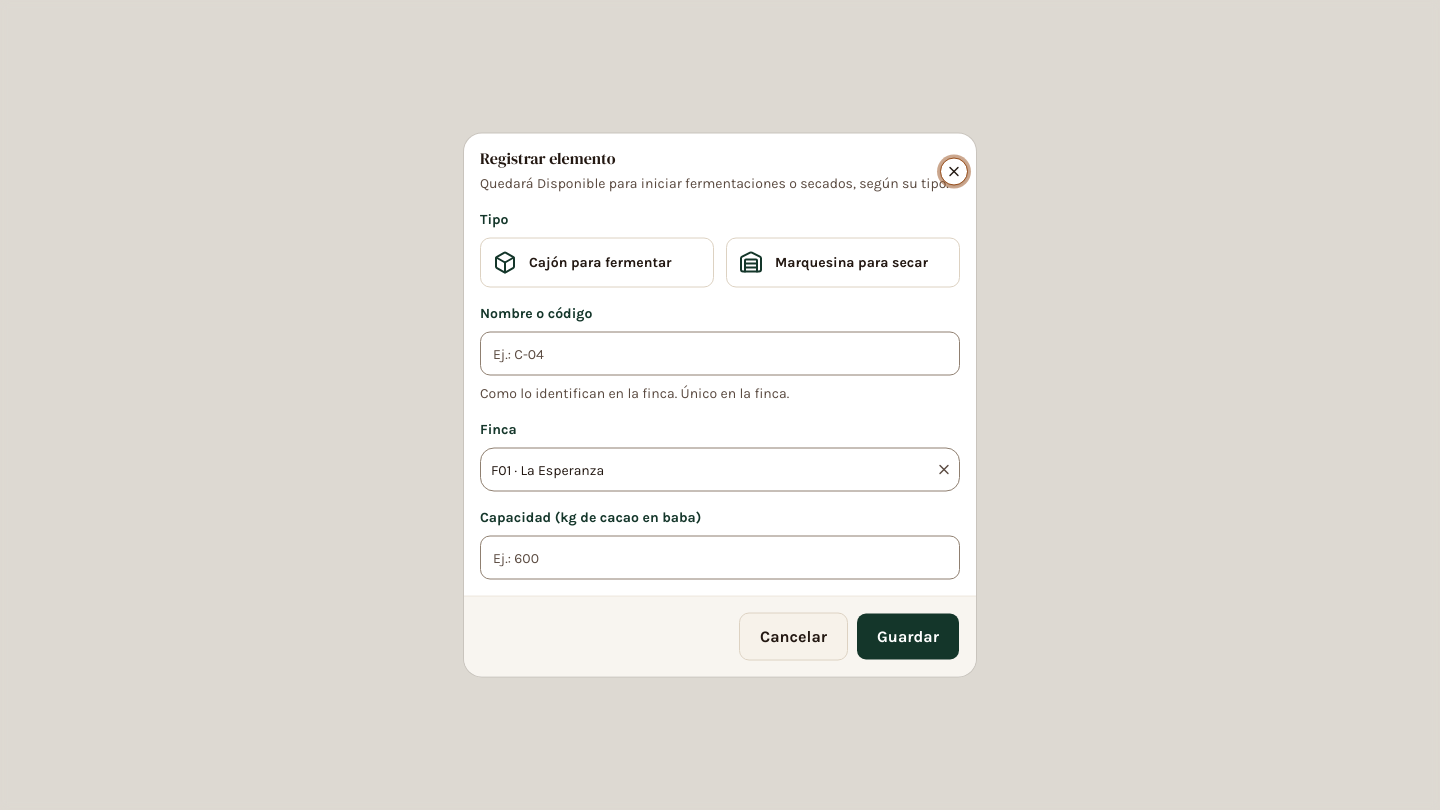
Test: registering a facility › marks each missing field and does not send anything
Step 1. Click the button "Guardar" → (908, 636), box [856,612,960,660]
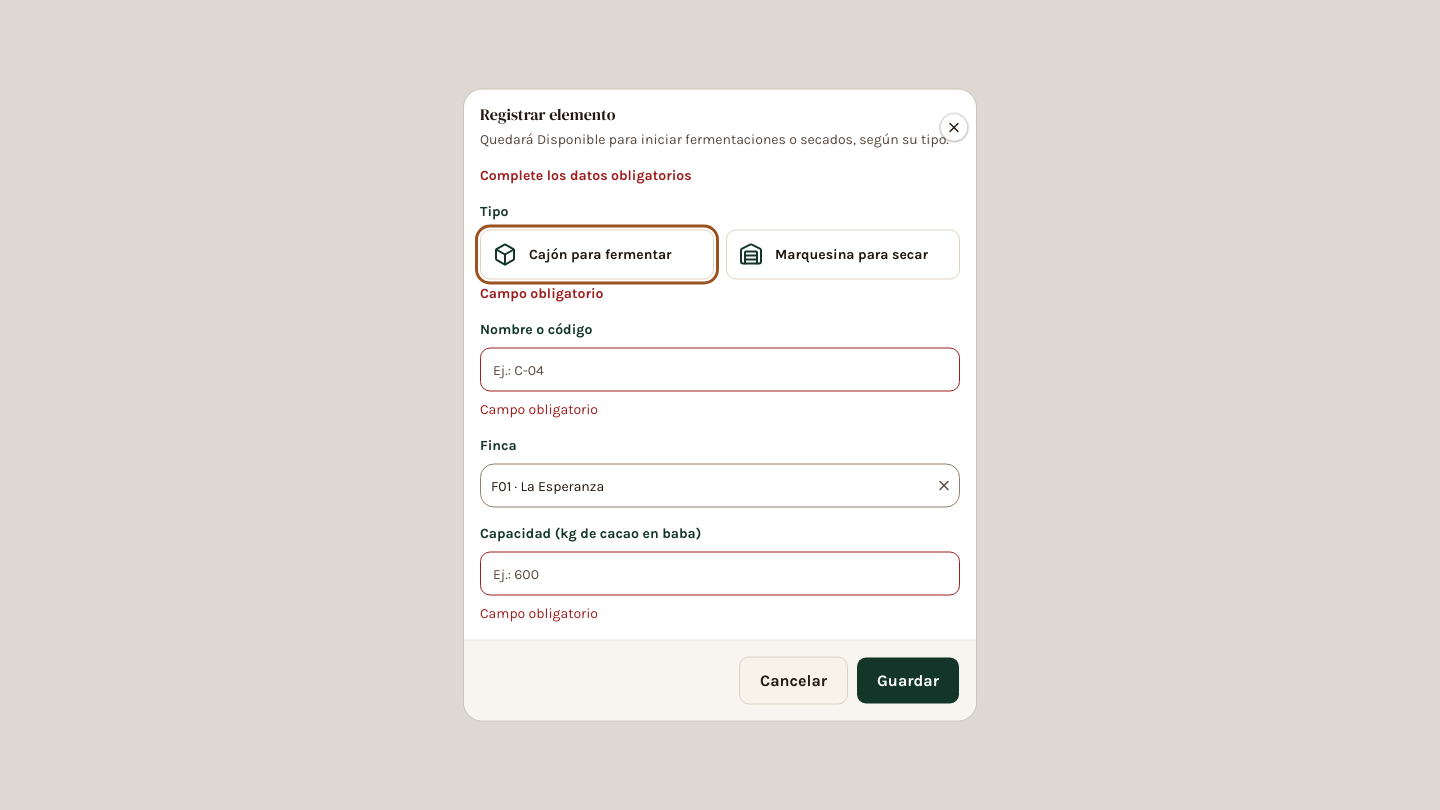
Expected: the text "Complete los datos obligatorios" is shown, [480,166,692,184]
Expected: the text "Campo obligatorio" is shown 3 times, [480,284,604,302]; [480,400,598,418]; [480,604,598,622]
